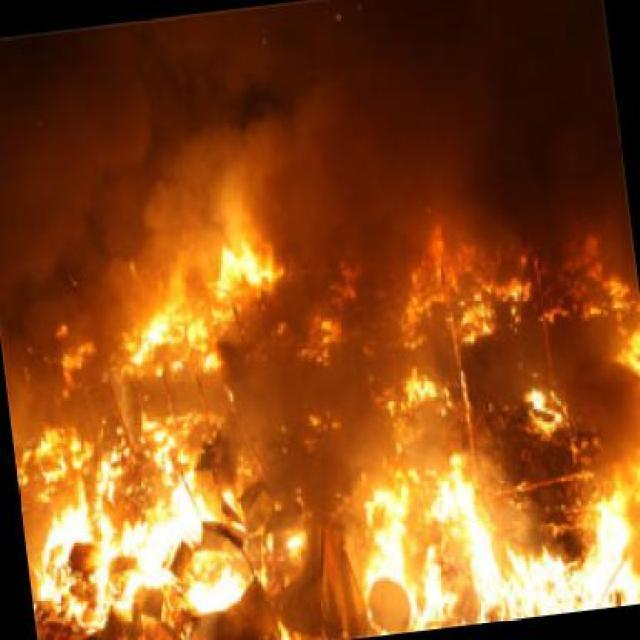Fire: (0, 224, 640, 640)
Smoke: (0, 34, 622, 192)
